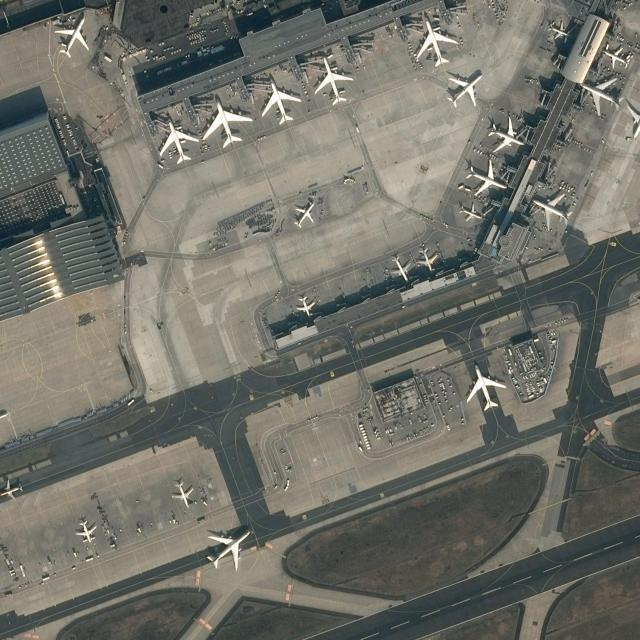1: (624, 101, 640, 138)
aircraft: (201, 97, 253, 148), (464, 360, 508, 410), (202, 526, 252, 570), (312, 54, 354, 106), (415, 18, 460, 66), (156, 119, 200, 164), (260, 78, 303, 124), (577, 75, 623, 115), (530, 190, 573, 231), (463, 157, 508, 195), (52, 14, 88, 58), (487, 112, 525, 153), (444, 71, 482, 109), (290, 198, 316, 229), (600, 42, 630, 68), (385, 252, 411, 282), (168, 479, 194, 508), (0, 478, 26, 502), (72, 518, 97, 542), (416, 245, 438, 272), (546, 18, 570, 40), (295, 294, 317, 318), (457, 202, 483, 222)
